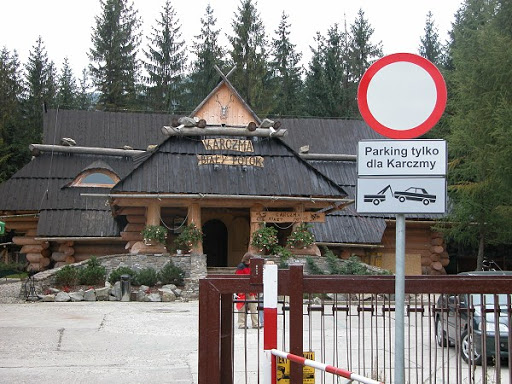no_entry_sign: (357, 53, 447, 140)
